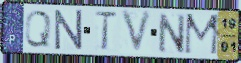M: (182, 12, 222, 57)
N: (53, 8, 84, 52), (157, 11, 187, 54)
Q: (23, 9, 54, 49)
T: (92, 11, 119, 53)
V: (119, 9, 155, 56)
